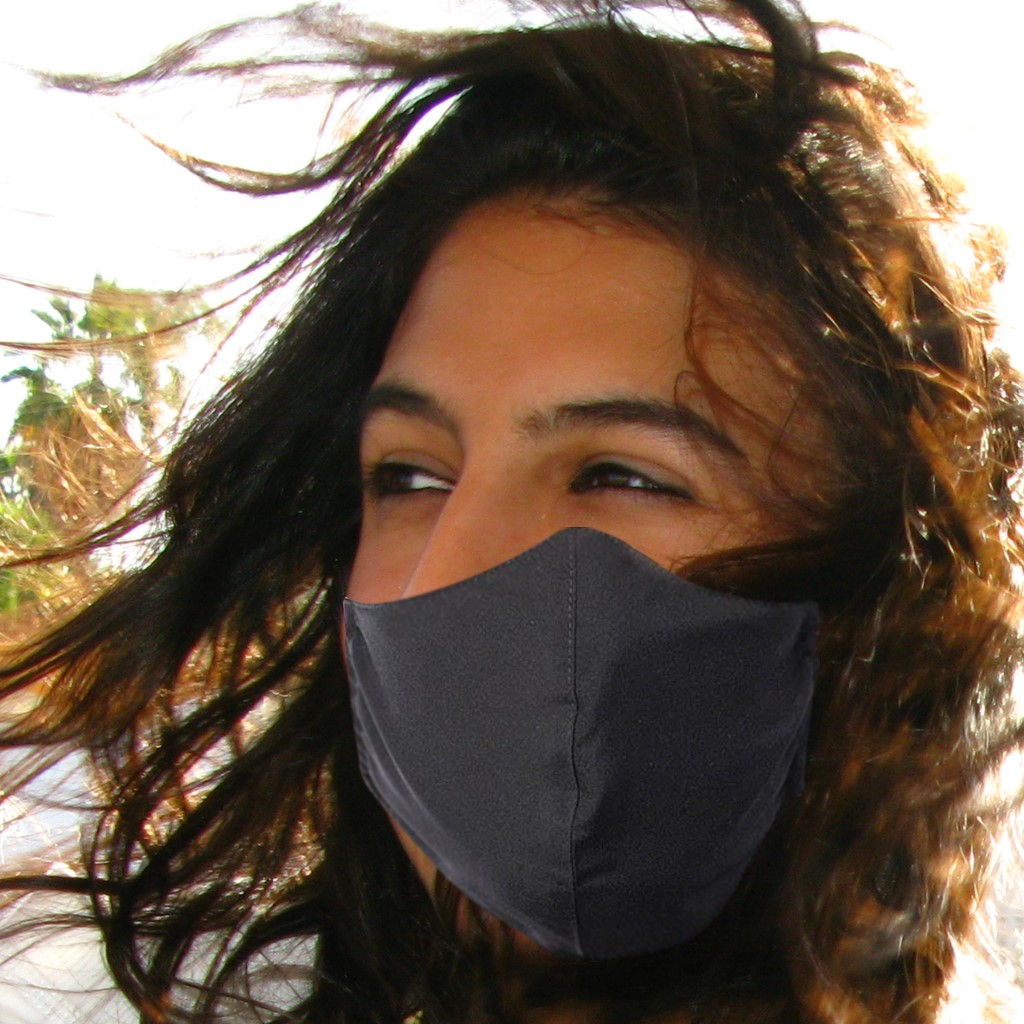con_mascara: (322, 184, 926, 964)
